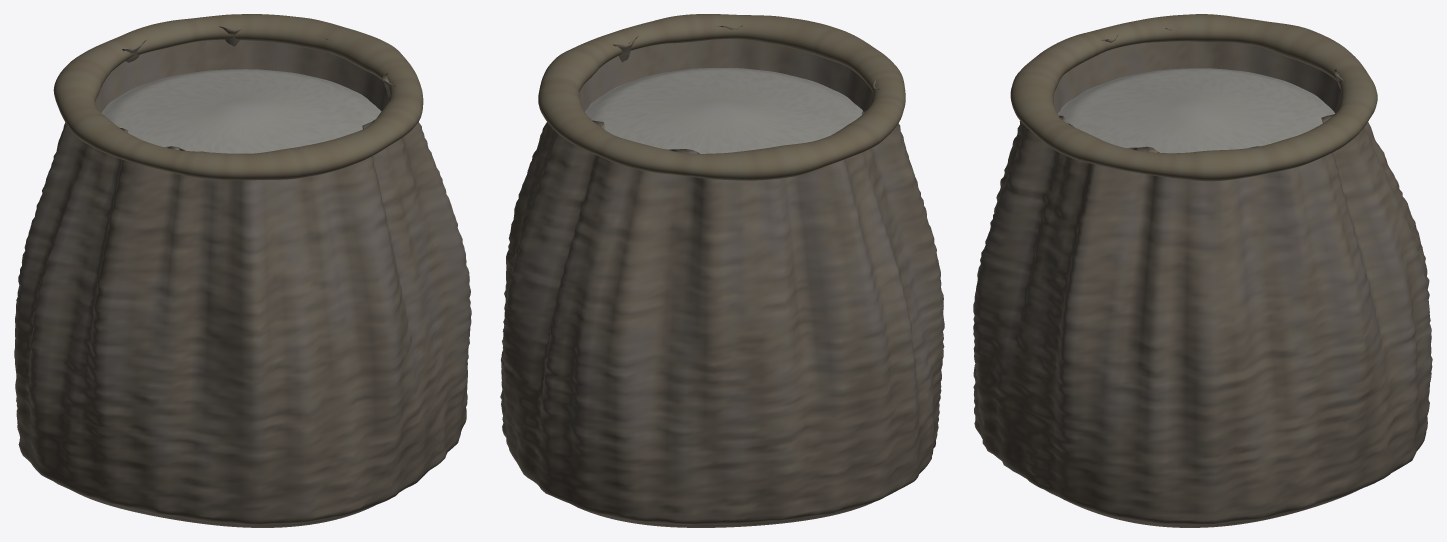
File: flour.glb
3 views of the same model, side by side, from view 1: azimuth 30°, elevation 25°; view 2: azimuth 150°, elevation 25°; view 3: azimuth 270°, elevation 25° (orthographic).
Parts seen in each view (by area): view 1: Flour_Bag, Flour_Rim, Flour_Powder; view 2: Flour_Bag, Flour_Rim, Flour_Powder; view 3: Flour_Bag, Flour_Rim, Flour_Powder.
Part boxes in pixels (x1=…): Flour_Bag: x1=14, y1=26, x2=471, y2=527; Flour_Rim: x1=53, y1=14, x2=423, y2=180; Flour_Powder: x1=101, y1=69, x2=381, y2=153; Flour_Bag: x1=500, y1=25, x2=944, y2=527; Flour_Rim: x1=538, y1=14, x2=905, y2=180; Flour_Powder: x1=585, y1=67, x2=862, y2=153; Flour_Bag: x1=973, y1=27, x2=1432, y2=527; Flour_Rim: x1=1010, y1=14, x2=1377, y2=181; Flour_Powder: x1=1058, y1=68, x2=1335, y2=153.
Size of the model in its own units: 0.1514 by 0.1279 by 0.1491.
